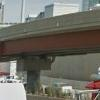Bridge: (4, 10, 94, 65)
